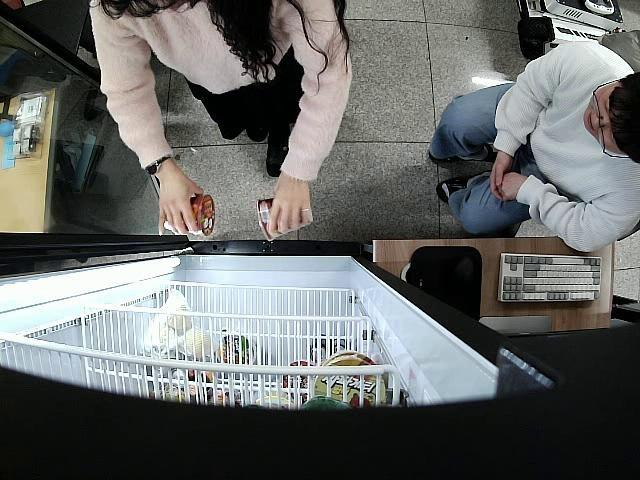06_nuguri_S: (186, 192, 216, 238), (256, 198, 280, 246)
